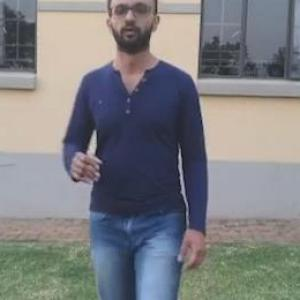follow: (78, 0, 217, 299)
